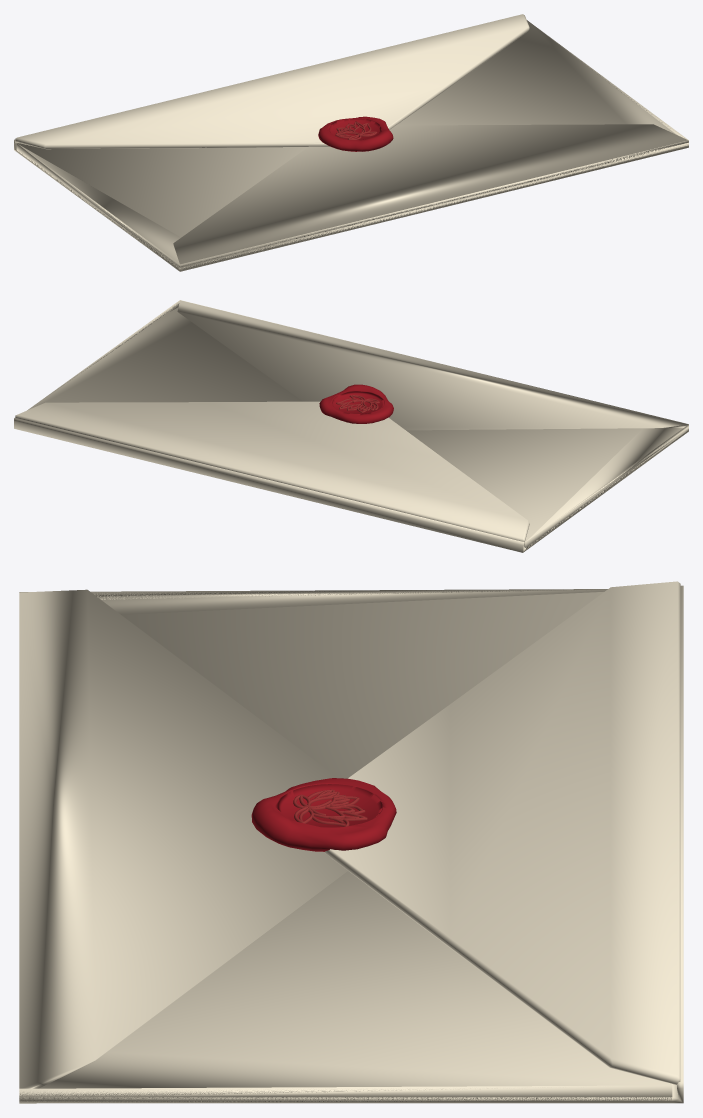
Rendered from letter3D.glb.
The picture shows the model from 3 angles, top to bottom: view 1: azimuth 30°, elevation 25°; view 2: azimuth 150°, elevation 25°; view 3: azimuth 270°, elevation 25°; orthographic projection. The views are drawn at different scales.
Visible parts, largest first — view 1: 底面, フラップ, UV球封蝋.001, 蓮の花.001; view 2: 底面, フラップ, UV球封蝋.001, 蓮の花.001; view 3: 底面, フラップ, UV球封蝋.001, 蓮の花.001.
Boxes of the visible parts, <box> form: 底面: <box>14,20,688,271</box>; フラップ: <box>15,14,529,149</box>; UV球封蝋.001: <box>318,116,393,151</box>; 蓮の花.001: <box>335,121,377,139</box>; 底面: <box>14,300,688,552</box>; フラップ: <box>15,401,529,541</box>; UV球封蝋.001: <box>319,384,393,423</box>; 蓮の花.001: <box>336,395,379,412</box>; 底面: <box>19,585,683,1103</box>; フラップ: <box>324,581,680,1084</box>; UV球封蝋.001: <box>251,778,396,851</box>; 蓮の花.001: <box>293,789,367,826</box>.
Bounding box in the file's own units: 3.6 × 0.1841 × 2.03.
